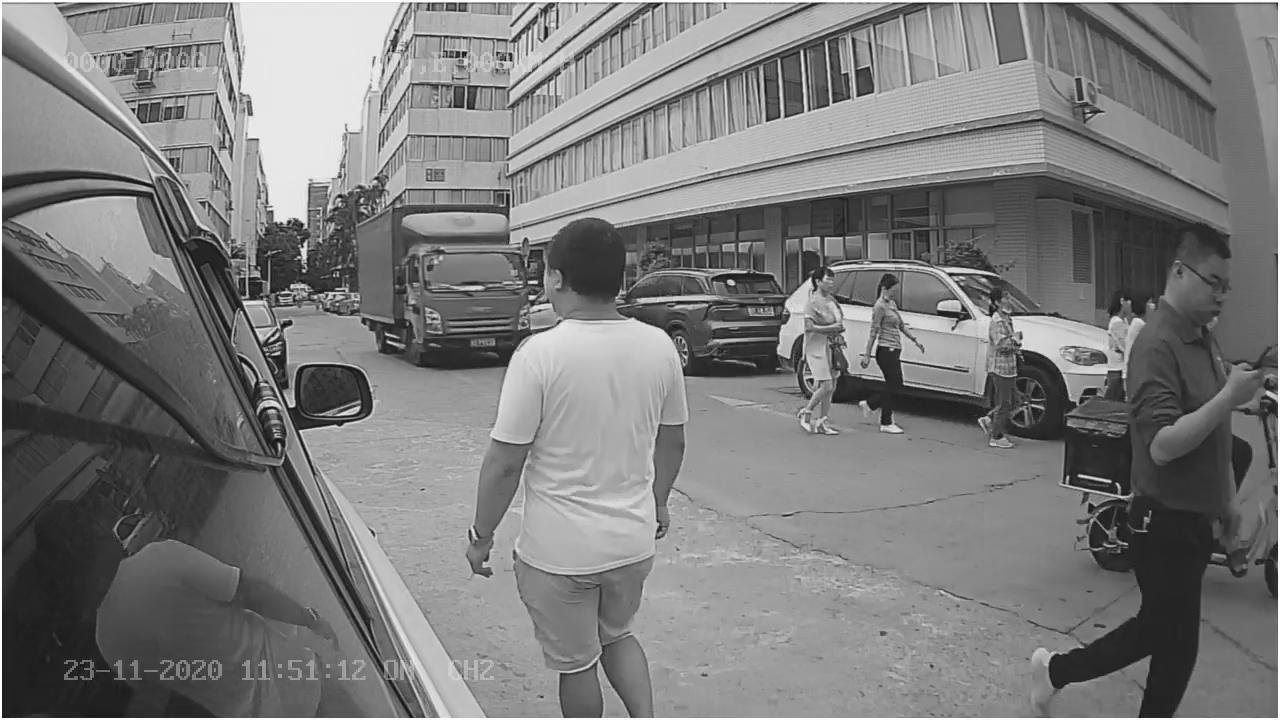person: (792, 261, 859, 432), (976, 287, 1032, 446)
